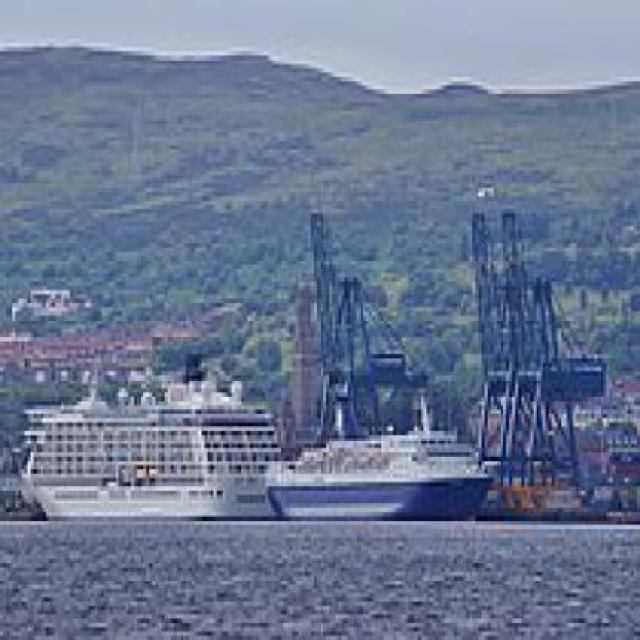cruise: (20, 346, 294, 531)
